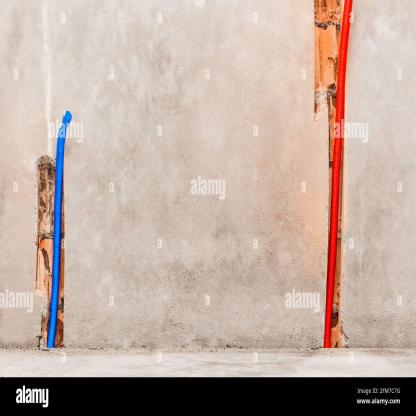PVC: (323, 0, 354, 353), (45, 112, 72, 350)
